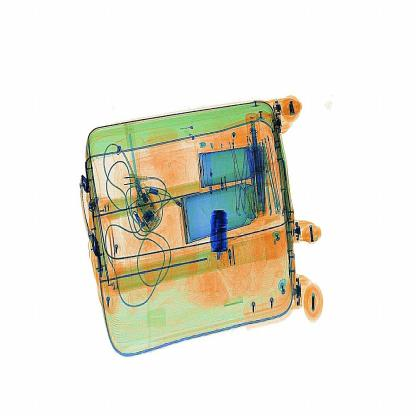scissors: (206, 206, 234, 250)
